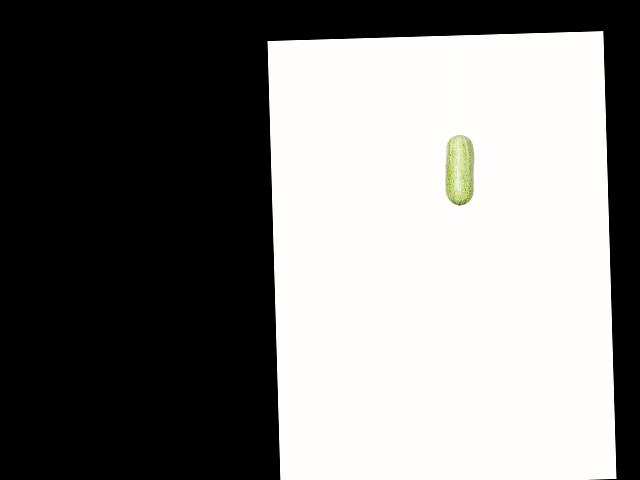cucumber: (444, 134, 475, 206)
